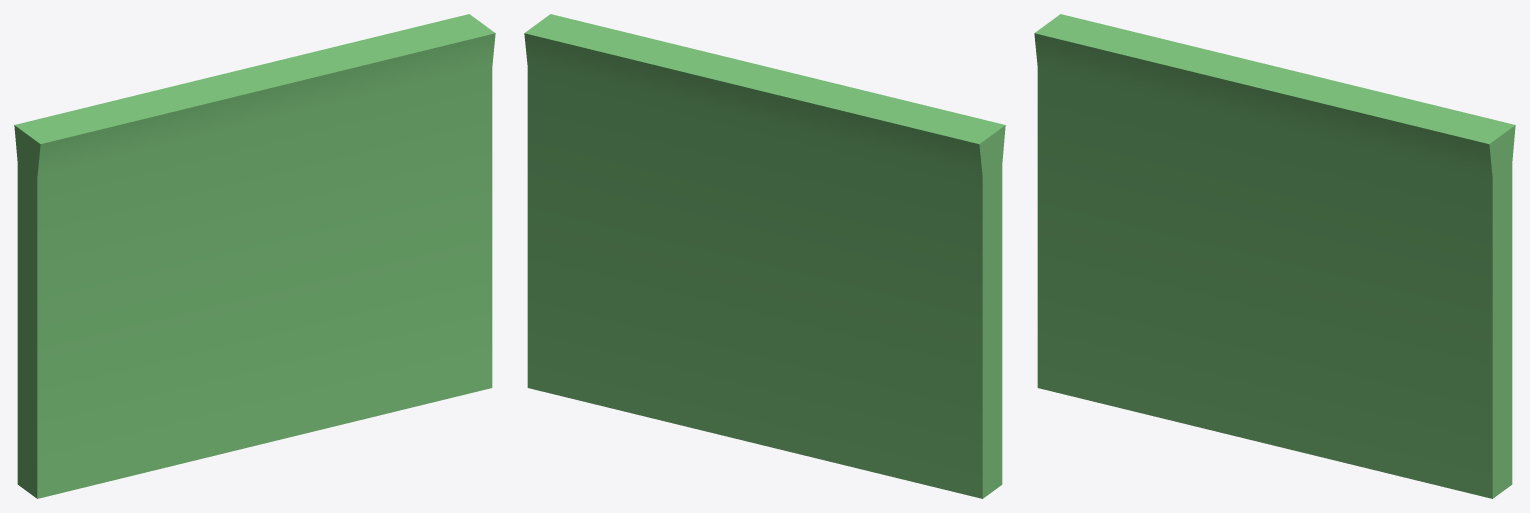
The model's file is Bld3_Wall_Int.fbx.
3 views of the same model, side by side, from view 1: azimuth 30°, elevation 25°; view 2: azimuth 150°, elevation 25°; view 3: azimuth 330°, elevation 25° (orthographic).
Visible parts, largest first — view 1: Bld3_Wall_Int; view 2: Bld3_Wall_Int; view 3: Bld3_Wall_Int.
Part boxes in pixels (bbox=[...]): Bld3_Wall_Int: bbox=[14, 14, 495, 498]; Bld3_Wall_Int: bbox=[524, 14, 1005, 498]; Bld3_Wall_Int: bbox=[1034, 14, 1515, 498].
Size of the model in its own units: 600 by 450 by 60.01.
